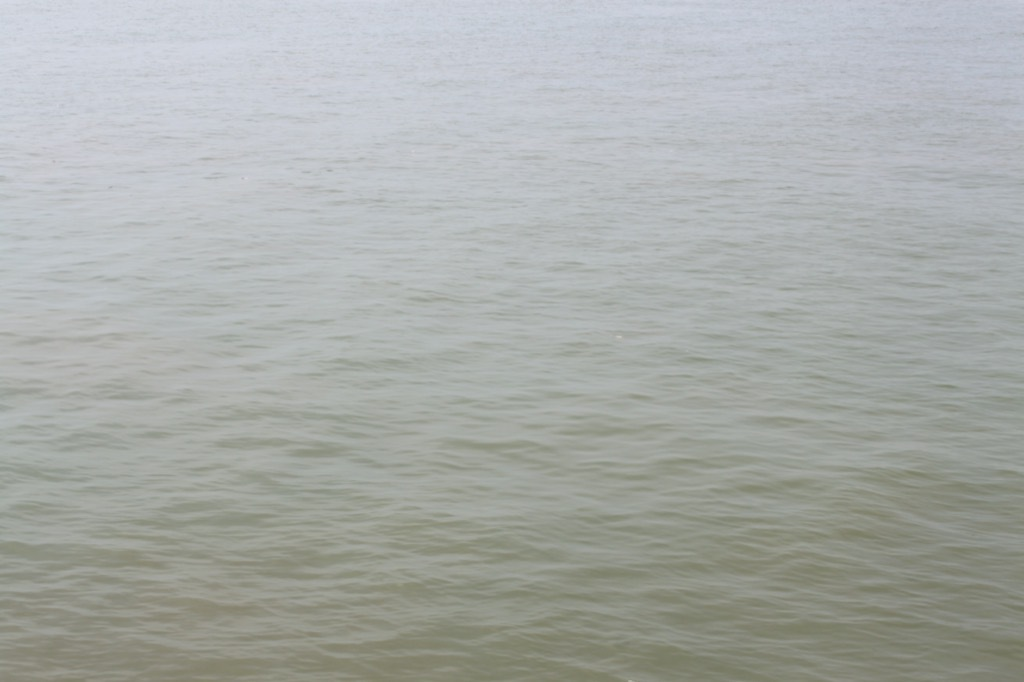plastic: (612, 331, 627, 341)
